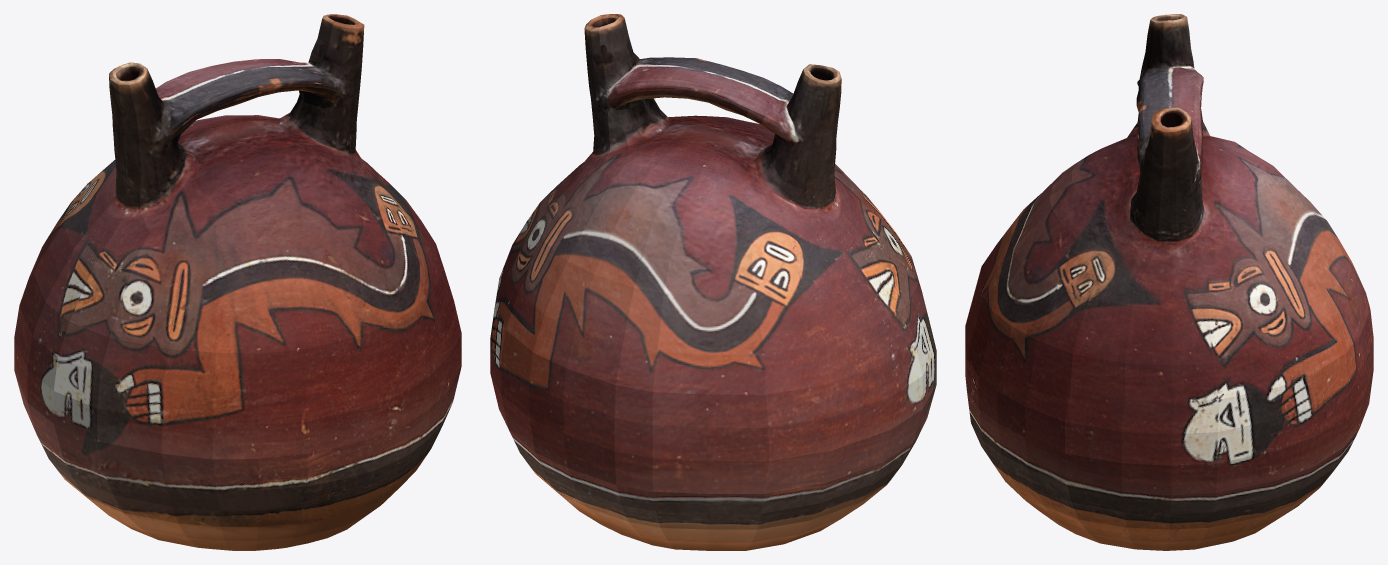
File: objeto01.FBX
3 renders of one model, left to right at view 1: azimuth 30°, elevation 25°; view 2: azimuth 150°, elevation 25°; view 3: azimuth 270°, elevation 25°, orthographic. The views are drawn at different scales.
Parts seen in each view (by area): view 1: Box001; view 2: Box001; view 3: Box001.
Part boxes in pixels (left/top/right/bottom): Box001: left=14, top=14, right=461, bottom=550; Box001: left=490, top=14, right=936, bottom=550; Box001: left=965, top=14, right=1373, bottom=550.
Bounding box in the file's own units: 68.02 × 77.12 × 64.42.
